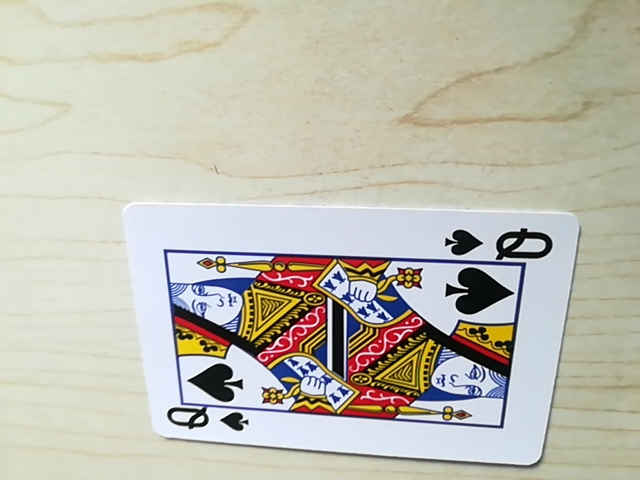ht q: (443, 224, 552, 263), (161, 401, 251, 439)
